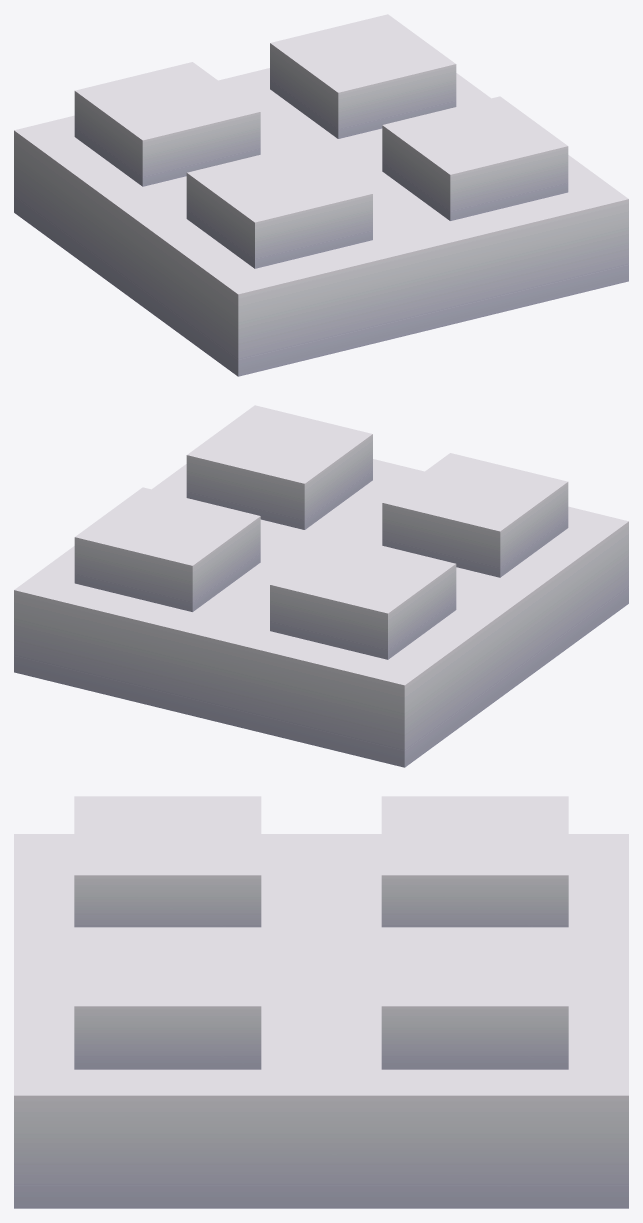
Rendered from square-lq-plate-2x2.glb.
The picture shows the model from 3 angles, top to bottom: view 1: azimuth 30°, elevation 25°; view 2: azimuth 150°, elevation 25°; view 3: azimuth 270°, elevation 25°; orthographic projection. The views are drawn at different scales.
Parts seen in each view (by area): view 1: square-lq-plate-2x2; view 2: square-lq-plate-2x2; view 3: square-lq-plate-2x2.
Part boxes in pixels (<box>): square-lq-plate-2x2: <box>14,14,628,376</box>; square-lq-plate-2x2: <box>14,405,628,767</box>; square-lq-plate-2x2: <box>14,796,628,1208</box>.
Bounding box in the file's own units: 0.159 × 0.05 × 0.158.
1 material, 1 textured.
